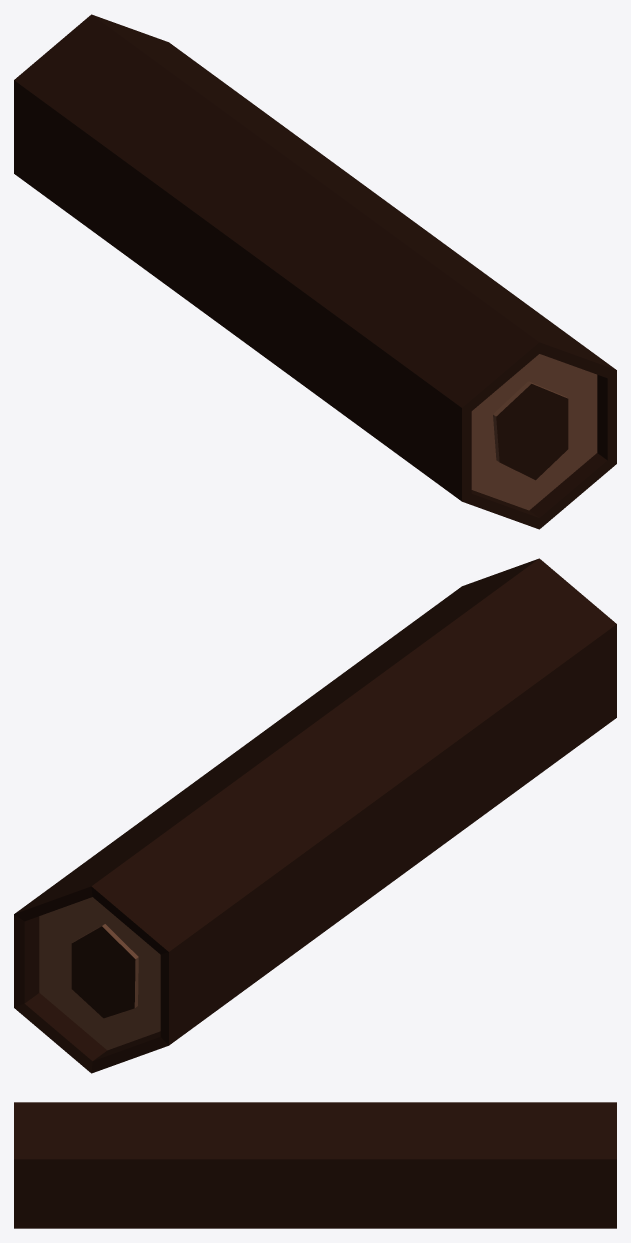
File: ArvoreCaida2.fbx
The picture shows the model from 3 angles, top to bottom: view 1: azimuth 30°, elevation 25°; view 2: azimuth 150°, elevation 25°; view 3: azimuth 270°, elevation 25°; orthographic projection. The views are drawn at different scales.
Visible parts, largest first — view 1: Cylinder; view 2: Cylinder; view 3: Cylinder.
Part boxes in pixels (x1,y1,x2,y2): Cylinder: [14, 14, 616, 529]; Cylinder: [14, 558, 616, 1073]; Cylinder: [14, 1102, 616, 1228].
Bounding box in the file's own units: 182 × 210 × 910.
